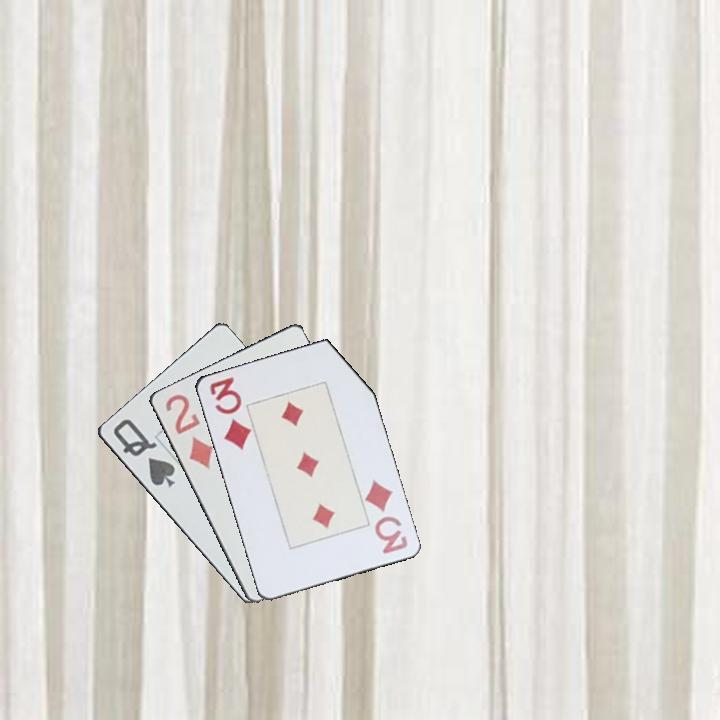2d: (160, 390, 215, 472)
3d: (361, 476, 410, 557), (206, 373, 253, 453)
Qs: (109, 415, 178, 491)
